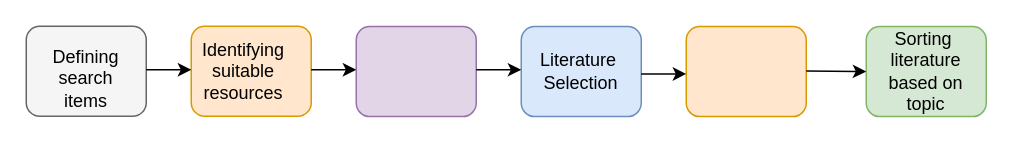
The diagram is 1013 pixels wide and 144 high, and some of its shapes have lost their labels. The shapes that lost their labels are listed below. From the top down, each one's box as (x1, y1, x2, y2) in pixels, then its label:
(355, 25, 476, 117): Search
(685, 25, 806, 117): Further Retrieval
